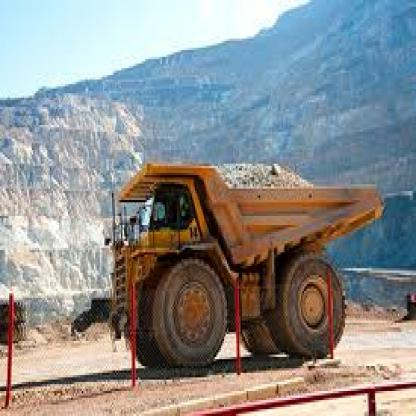dump_truck: (100, 150, 395, 380)
